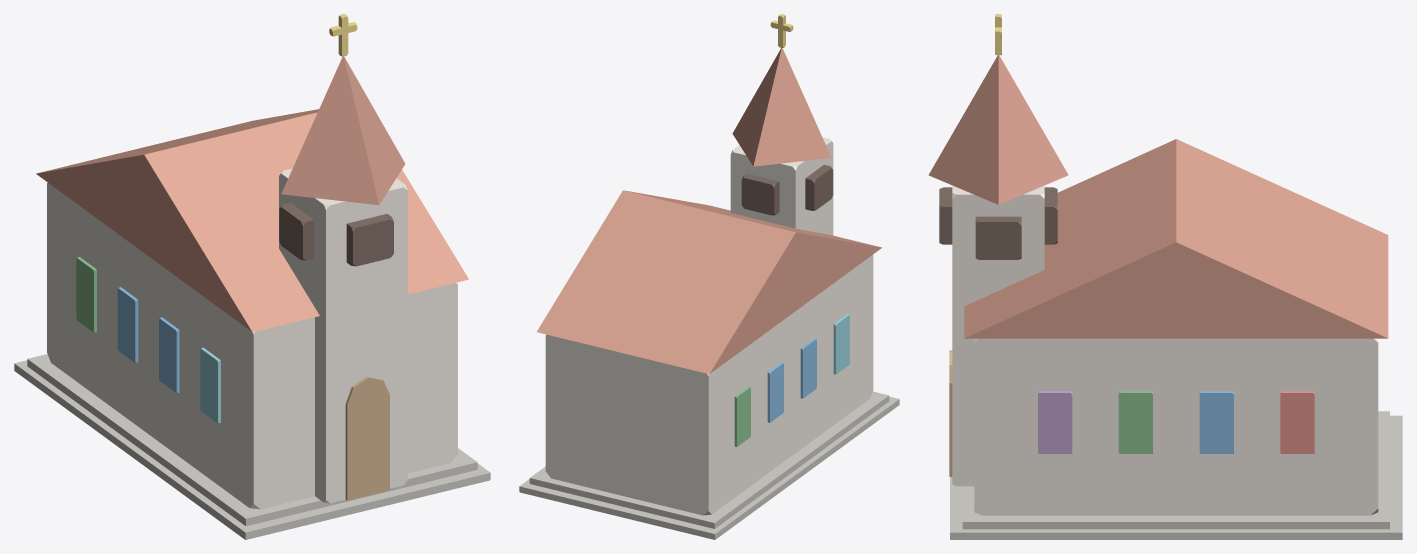
File: church.glb
The picture shows the model from 3 angles, left to right: view 1: azimuth 30°, elevation 25°; view 2: azimuth 150°, elevation 25°; view 3: azimuth 270°, elevation 25°; orthographic projection. The views are drawn at different scales.
Visible parts, largest first — view 1: body_m0, body_m1, tower_m0, tower_m5, base_m1, base_m0, tower_m8, tower_m3, tower_m1, body_m4, body_m6, body_m8 (+2 smaller); view 2: body_m0, body_m1, tower_m5, base_m1, tower_m0, base_m0, tower_m4, tower_m1, body_m2, body_m4, body_m6, body_m8; view 3: body_m0, body_m1, tower_m0, tower_m5, base_m1, base_m0, body_m3, body_m5, body_m7, body_m9, tower_m2, tower_m3 (+1 smaller).
Part boxes in pixels (bbox=[...]): body_m0: bbox=[47, 182, 457, 509]; body_m1: bbox=[36, 109, 468, 332]; tower_m0: bbox=[279, 168, 407, 503]; tower_m5: bbox=[281, 56, 405, 205]; base_m1: bbox=[27, 354, 477, 526]; base_m0: bbox=[14, 360, 490, 539]; tower_m8: bbox=[345, 395, 389, 500]; tower_m3: bbox=[346, 213, 393, 266]; tower_m1: bbox=[279, 203, 314, 260]; body_m4: bbox=[117, 287, 138, 362]; body_m6: bbox=[159, 317, 179, 392]; body_m8: bbox=[200, 347, 220, 423]; body_m0: bbox=[545, 255, 873, 515]; body_m1: bbox=[537, 190, 881, 374]; tower_m5: bbox=[732, 48, 831, 166]; base_m1: bbox=[529, 391, 889, 528]; tower_m0: bbox=[730, 137, 833, 235]; base_m0: bbox=[519, 396, 899, 539]; tower_m4: bbox=[741, 173, 779, 215]; tower_m1: bbox=[805, 164, 833, 210]; body_m2: bbox=[734, 386, 750, 446]; body_m4: bbox=[767, 362, 783, 422]; body_m6: bbox=[800, 338, 816, 398]; body_m8: bbox=[833, 314, 849, 374]; body_m0: bbox=[974, 338, 1378, 515]; body_m1: bbox=[964, 139, 1388, 338]; tower_m0: bbox=[952, 185, 1044, 486]; tower_m5: bbox=[928, 55, 1068, 204]; base_m1: bbox=[962, 411, 1389, 529]; base_m0: bbox=[950, 415, 1402, 539]; body_m3: bbox=[1280, 391, 1314, 453]; body_m5: bbox=[1199, 391, 1233, 453]; body_m7: bbox=[1118, 391, 1152, 453]; body_m9: bbox=[1038, 391, 1072, 453]; tower_m2: bbox=[975, 216, 1021, 259]; tower_m3: bbox=[939, 187, 952, 244].
Bounding box in the file's own units: 5.04 × 9.35 × 8.63.
